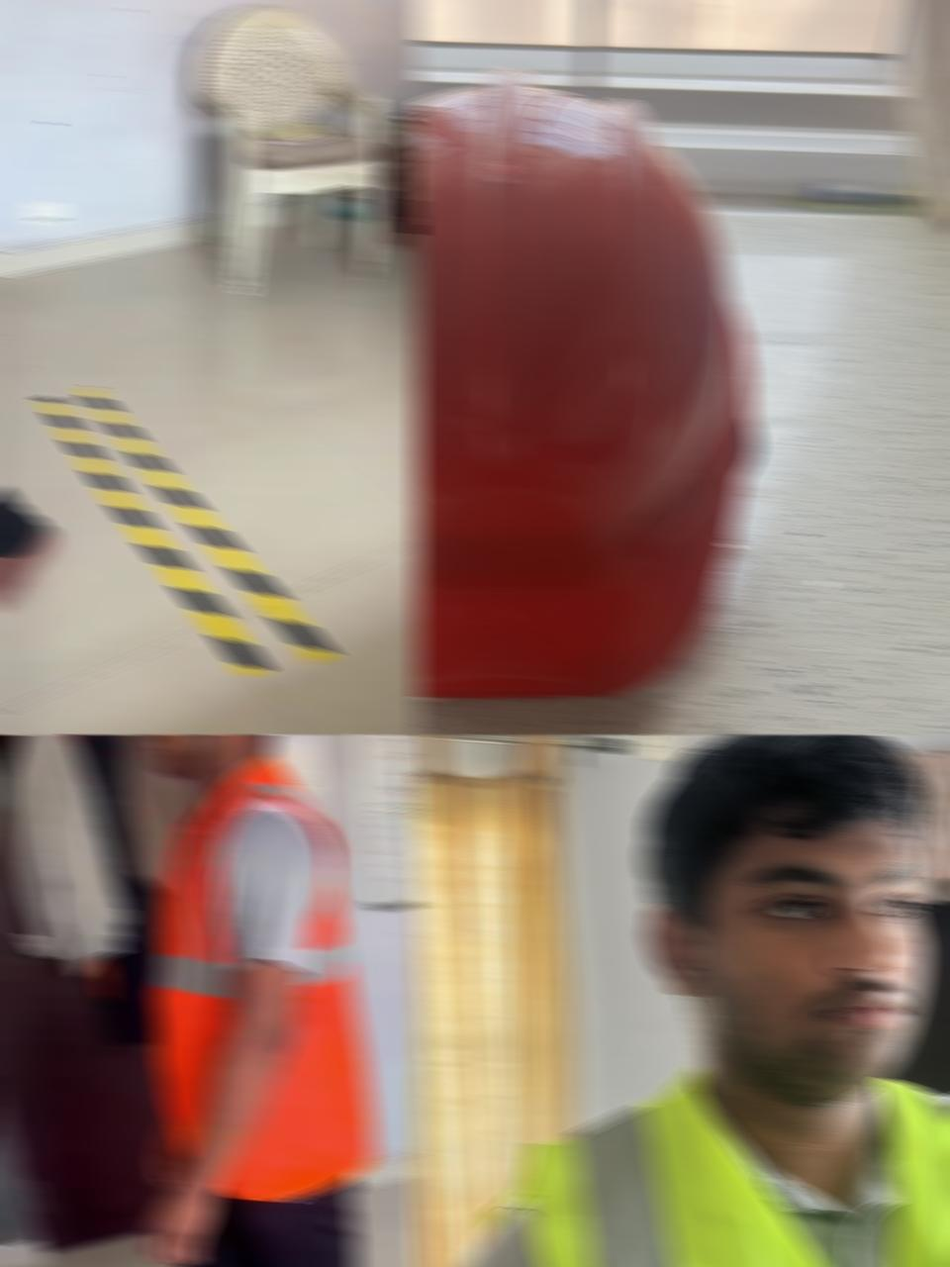BorderLine: (35, 381, 340, 677)
Helmet: (413, 65, 758, 699)
No_Helmet: (638, 734, 931, 1109)
Person: (413, 734, 950, 1267), (79, 734, 403, 1267), (0, 0, 58, 615)
Vest: (150, 757, 376, 1198), (483, 1064, 950, 1267)
